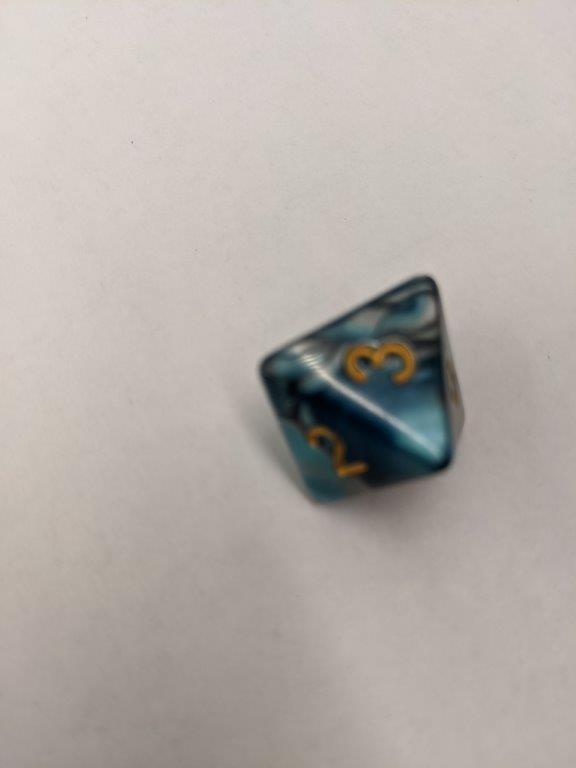d8-3: (257, 274, 471, 509)
